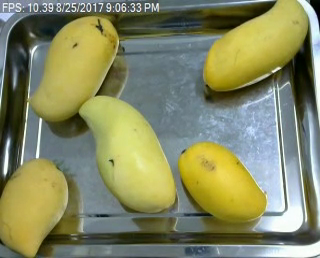Mango: (77, 95, 181, 211), (23, 13, 118, 128), (197, 1, 310, 95), (176, 137, 271, 223), (0, 155, 74, 255)
